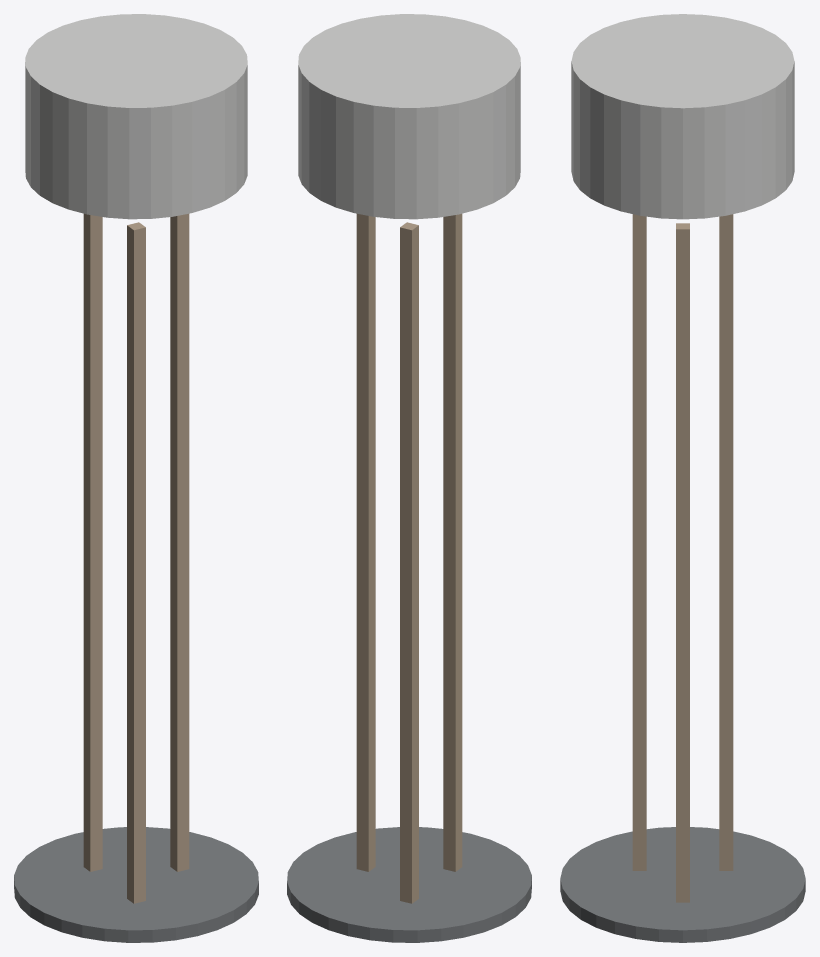
The model's file is floor-lamp-tripod.glb.
The picture shows the model from 3 angles, left to right: view 1: azimuth 30°, elevation 25°; view 2: azimuth 150°, elevation 25°; view 3: azimuth 270°, elevation 25°; orthographic projection.
Parts seen in each view (by area): view 1: floor-lamp-tripod_1, floor-lamp-tripod_0, floor-lamp-tripod_2, floor-lamp-tripod_4, floor-lamp-tripod_3; view 2: floor-lamp-tripod_1, floor-lamp-tripod_0, floor-lamp-tripod_2, floor-lamp-tripod_3, floor-lamp-tripod_4; view 3: floor-lamp-tripod_1, floor-lamp-tripod_0, floor-lamp-tripod_3, floor-lamp-tripod_4, floor-lamp-tripod_2.
Boxes of the visible parts, x1,y1,x2,y2 form: floor-lamp-tripod_1: [25, 14, 247, 219]; floor-lamp-tripod_0: [14, 827, 258, 942]; floor-lamp-tripod_2: [170, 213, 189, 871]; floor-lamp-tripod_4: [83, 213, 102, 871]; floor-lamp-tripod_3: [127, 222, 145, 903]; floor-lamp-tripod_1: [298, 14, 520, 219]; floor-lamp-tripod_0: [287, 827, 531, 942]; floor-lamp-tripod_2: [356, 213, 375, 871]; floor-lamp-tripod_3: [443, 213, 462, 871]; floor-lamp-tripod_4: [400, 222, 418, 903]; floor-lamp-tripod_1: [571, 14, 794, 219]; floor-lamp-tripod_0: [560, 827, 805, 942]; floor-lamp-tripod_3: [632, 214, 646, 870]; floor-lamp-tripod_4: [719, 214, 733, 870]; floor-lamp-tripod_2: [676, 223, 689, 902].
Size of the model in its own units: 0.44 by 1.64 by 0.44.
